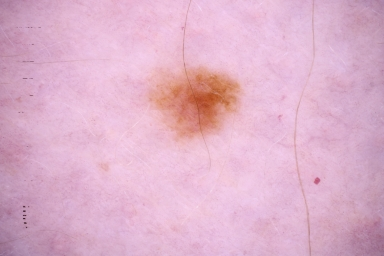nevus: (152, 70, 242, 139)
